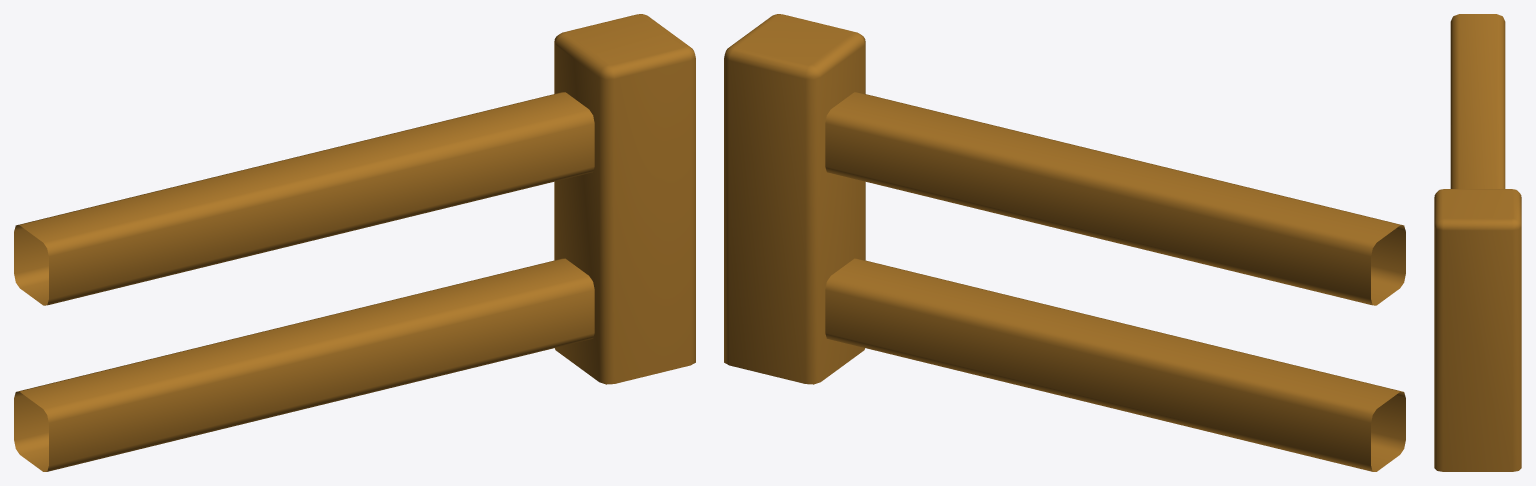
File: Barn@Fence.fbx
The picture shows the model from 3 angles, left to right: view 1: azimuth 30°, elevation 25°; view 2: azimuth 150°, elevation 25°; view 3: azimuth 270°, elevation 25°; orthographic projection. The views are drawn at different scales.
Parts seen in each view (by area): view 1: Fence_Fix_19; view 2: Fence_Fix_19; view 3: Fence_Fix_19.
Boxes of the visible parts, <box> form: Fence_Fix_19: <box>14,14,695,471</box>; Fence_Fix_19: <box>724,14,1405,471</box>; Fence_Fix_19: <box>1434,14,1521,471</box>.
Bounding box in the file's own units: 150 × 70.39 × 22.33.
